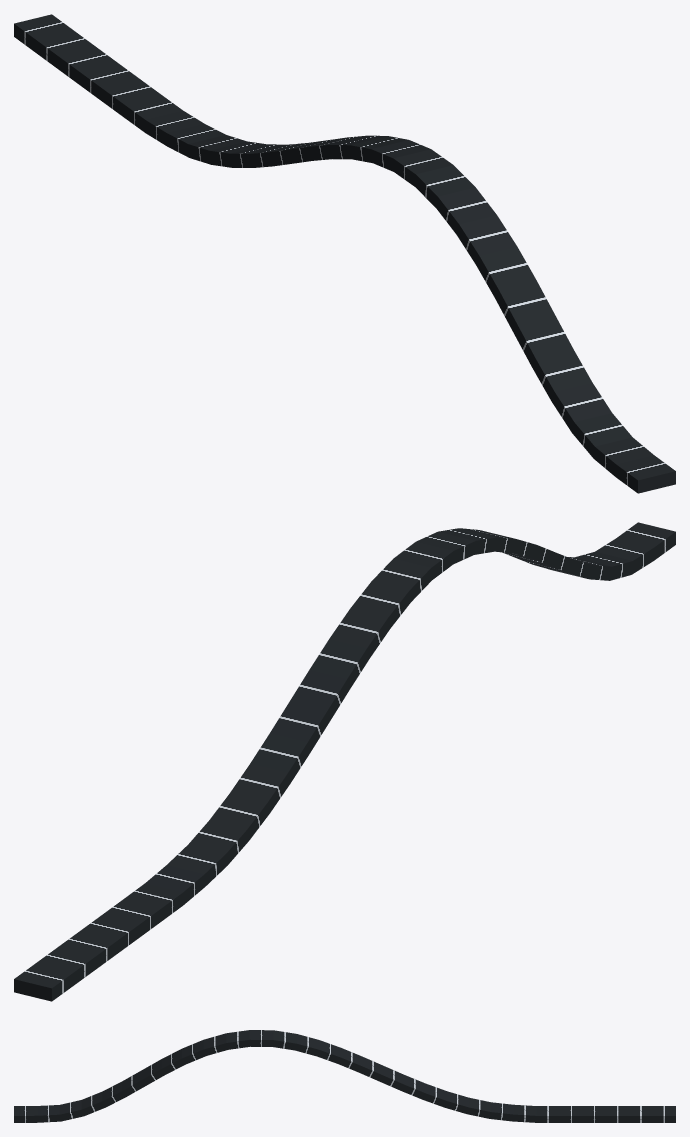
Rendered from collider.fbx.
3 views of the same model, one above another, from view 1: azimuth 30°, elevation 25°; view 2: azimuth 150°, elevation 25°; view 3: azimuth 270°, elevation 25° (orthographic). The views are drawn at different scales.
Visible parts, largest first — view 1: Curvo.001; view 2: Curvo.001; view 3: Curvo.001.
Boxes of the visible parts, x1,y1,x2,y2 form: Curvo.001: [14, 14, 675, 493]; Curvo.001: [14, 522, 675, 1001]; Curvo.001: [14, 1030, 675, 1122].
Size of the model in its own units: 600 by 17099 by 2370.
Materials: 1 (1 with a texture image).
